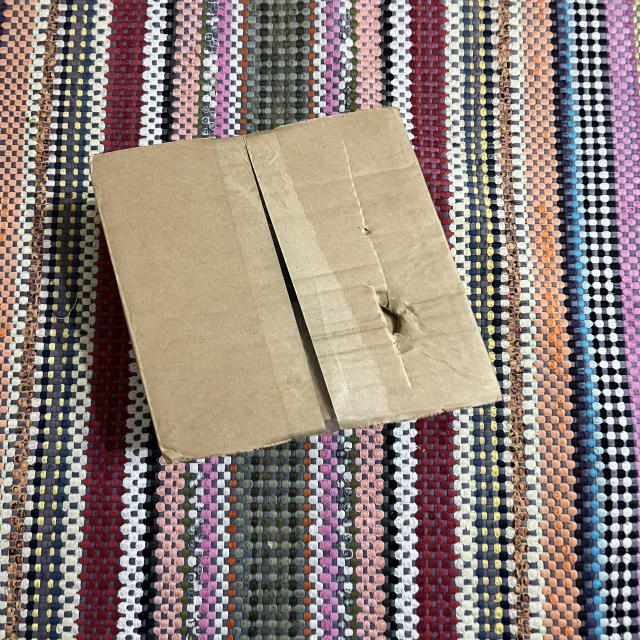damaged: (85, 98, 514, 470), (362, 276, 438, 371)
